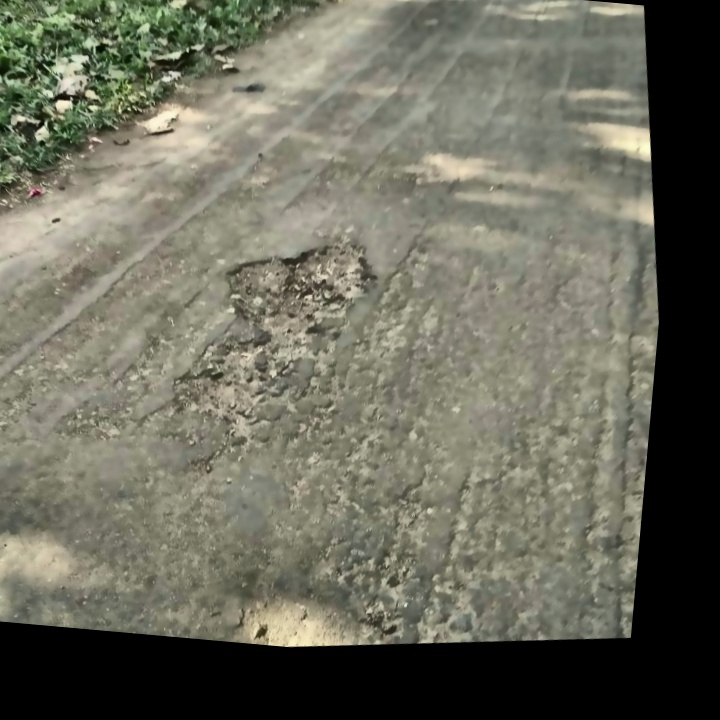pothole: (203, 222, 392, 352), (156, 327, 280, 446)
